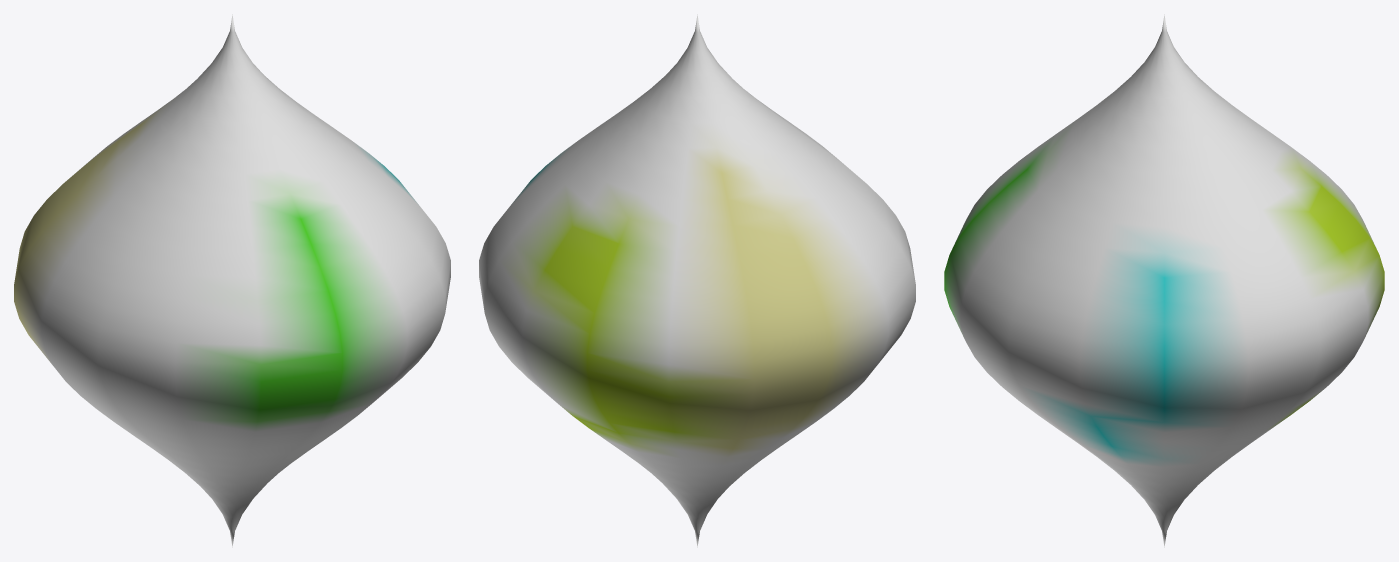
3 views of the same model, side by side, from view 1: azimuth 30°, elevation 25°; view 2: azimuth 150°, elevation 25°; view 3: azimuth 270°, elevation 25° (orthographic).
Parts seen in each view (by area): view 1: PM3D_SweepProfile3D_2; view 2: PM3D_SweepProfile3D_2; view 3: PM3D_SweepProfile3D_2.
Part boxes in pixels (x1,y1,x2,y2): PM3D_SweepProfile3D_2: [14, 14, 450, 547]; PM3D_SweepProfile3D_2: [479, 14, 915, 547]; PM3D_SweepProfile3D_2: [944, 14, 1384, 547].
Size of the model in its own units: 1.5 by 2 by 1.5.
